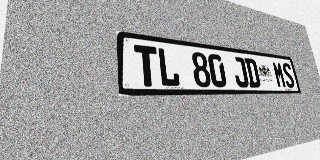0: (207, 53, 227, 87)
8: (191, 51, 212, 87)
D: (244, 58, 261, 88)
J: (231, 56, 249, 87)
L: (157, 47, 180, 87)
M: (272, 61, 287, 88)
S: (281, 62, 296, 88)
T: (134, 44, 159, 87)
